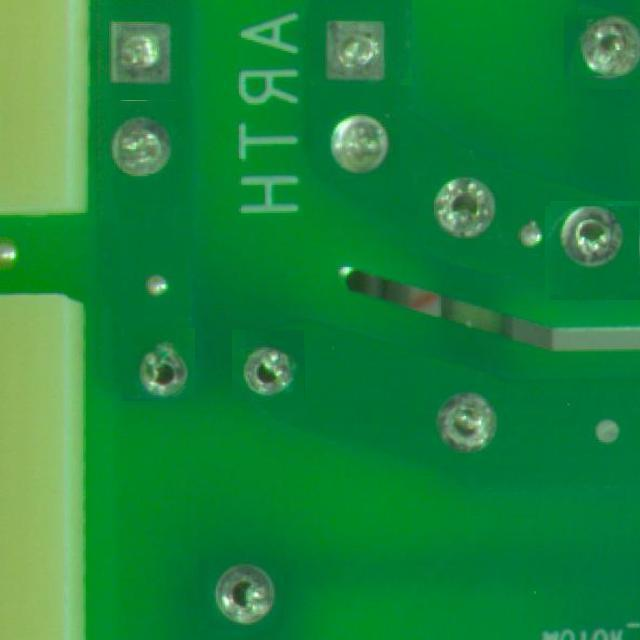lack_of_part: (547, 203, 640, 297), (310, 0, 412, 85), (88, 6, 194, 86), (423, 167, 508, 251), (198, 556, 284, 630), (314, 106, 400, 180), (96, 100, 178, 174), (122, 328, 195, 401), (570, 6, 640, 82), (232, 330, 305, 402)
